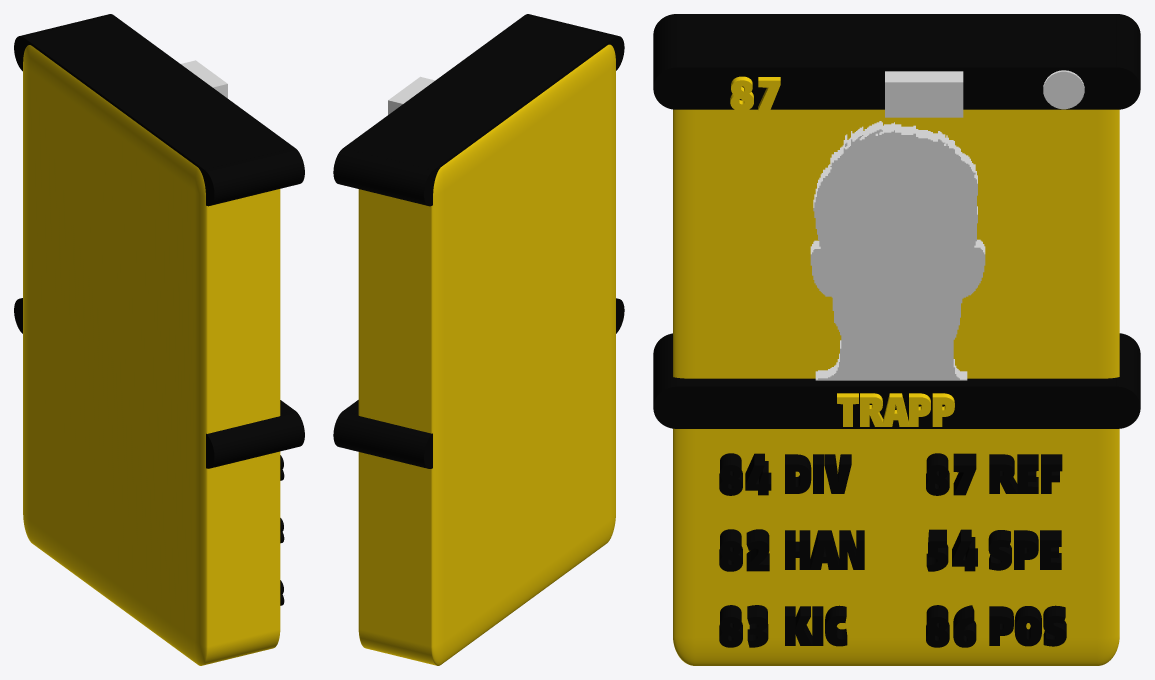
File: TRAPP.fbx
The picture shows the model from 3 angles, left to right: view 1: azimuth 30°, elevation 25°; view 2: azimuth 150°, elevation 25°; view 3: azimuth 270°, elevation 25°; orthographic projection. The views are drawn at different scales.
Visible parts, largest first — view 1: Куб, Цилиндр.002, Цилиндр.001, Куб.001; view 2: Куб, Цилиндр.002, Цилиндр.001, Куб.001; view 3: Куб, Цилиндр.002, Плоскость, Цилиндр.001, Куб.001, Текст.006, Текст, Текст.005, Текст.003, Текст.004, Текст.001, Текст.002 (+8 smaller).
Part boxes in pixels (left/top/right/bottom): Куб: left=23, top=45, right=280, bottom=665; Цилиндр.002: left=14, top=14, right=304, bottom=206; Цилиндр.001: left=14, top=298, right=304, bottom=468; Куб.001: left=181, top=60, right=227, bottom=98; Куб: left=358, top=44, right=615, bottom=665; Цилиндр.002: left=333, top=14, right=624, bottom=206; Цилиндр.001: left=333, top=298, right=624, bottom=468; Куб.001: left=388, top=76, right=435, bottom=114; Куб: left=673, top=109, right=1119, bottom=665; Цилиндр.002: left=653, top=14, right=1140, bottom=109; Плоскость: left=810, top=121, right=985, bottom=380; Цилиндр.001: left=653, top=333, right=1140, bottom=428; Куб.001: left=885, top=71, right=963, bottom=117; Текст.006: left=837, top=393, right=954, bottom=426; Текст: left=785, top=530, right=864, bottom=569; Текст.005: left=989, top=605, right=1066, bottom=646; Текст.003: left=989, top=454, right=1062, bottom=493; Текст.004: left=988, top=530, right=1061, bottom=570; Текст.001: left=785, top=454, right=851, bottom=493; Текст.002: left=785, top=605, right=847, bottom=646.
Size of the model in its own units: 300 by 1202 by 872.
